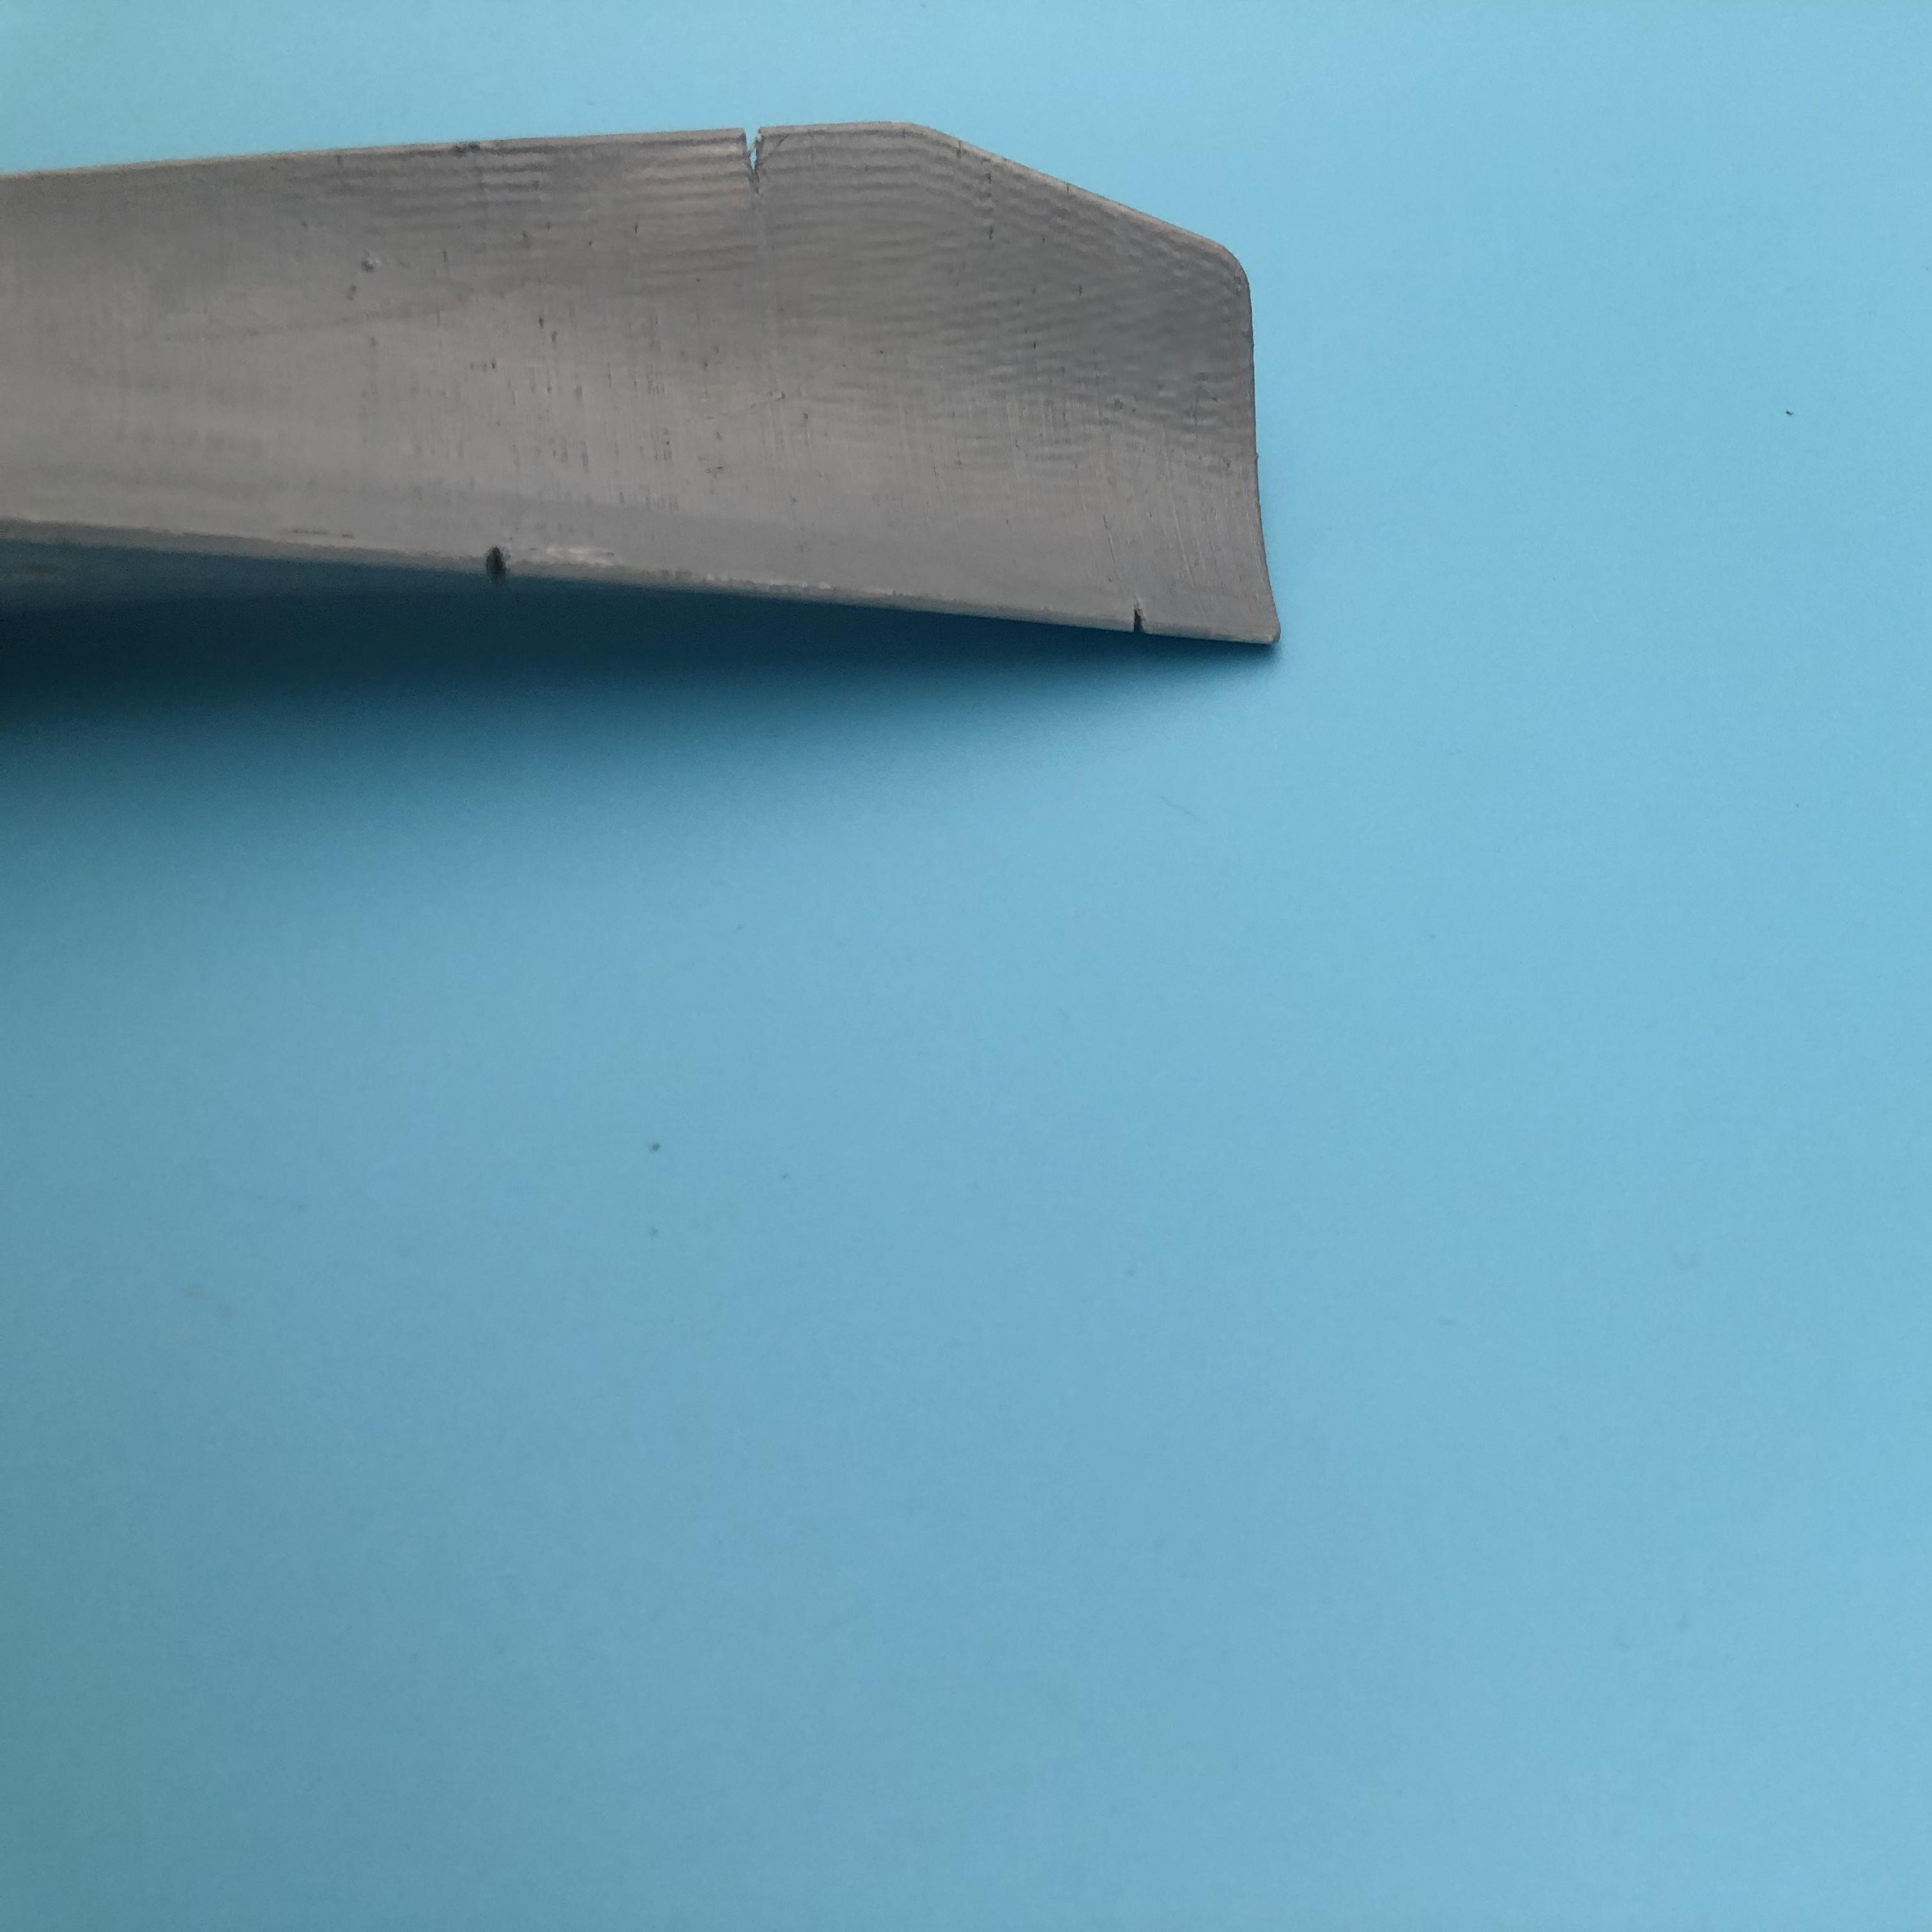groove: (729, 138, 782, 182), (1122, 603, 1173, 640), (476, 545, 531, 573)
